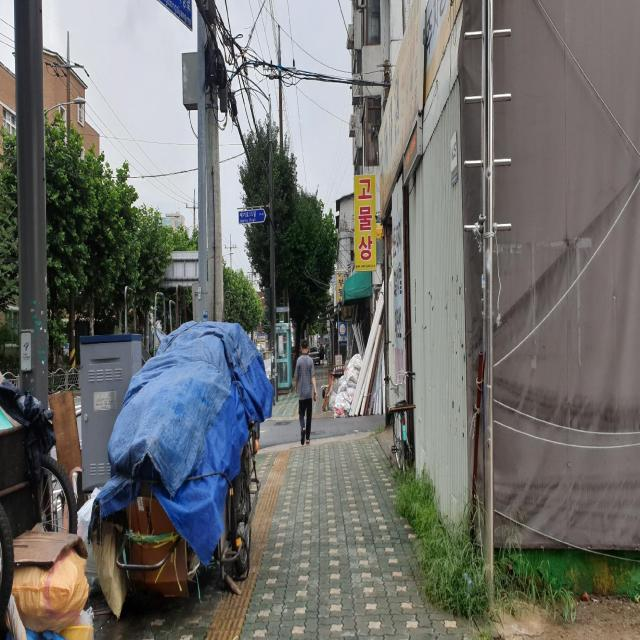person ahead at: (288, 336, 322, 446)
